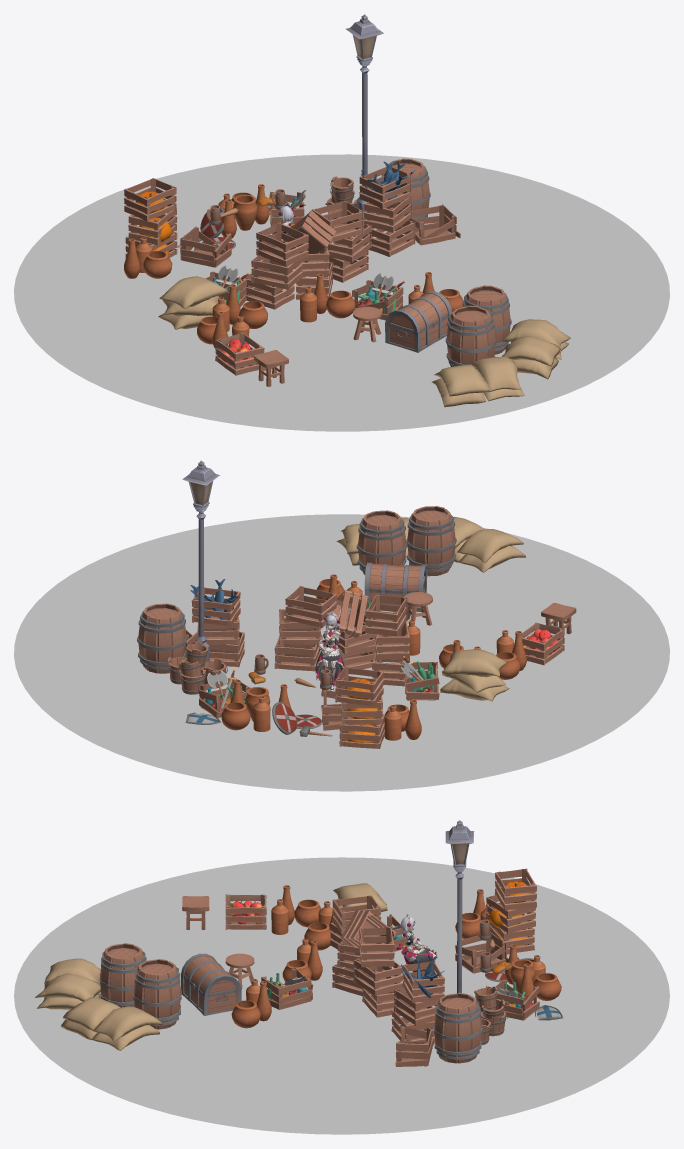
File: Env_with_Character_and_Lights.gltf
3 views of the same model, one above another, from view 1: azimuth 30°, elevation 25°; view 2: azimuth 150°, elevation 25°; view 3: azimuth 270°, elevation 25° (orthographic).
Visible parts, largest first — view 1: Floor, Bag_4__1_, Chest_1, Bag_4, Barrel__3_, Lamp_76, Case_1__11_, Case_1__2_, Barrel__2_, Case_and_food_1, Case_2__2_, Case_1__5_ (+21 smaller); view 2: Floor, Barrel__3_, Barrel__1_, Barrel__2_, Bag_4__1_, Chest_1, Lamp_76, Case_1__7_, Case_1__11_, Case_1__2_, Case_and_food_1, Bag_1__2_ (+25 smaller); view 3: Floor, Bag_4, Barrel__1_, Chest_1, Barrel__2_, Bag_4__1_, Barrel__3_, Lamp_76, Case_and_food_1, Case_1__2_, Case_1__7_, Case_1__8_ (+24 smaller).
Part boxes in pixels (x1,y1,x2,y2): Floor: (14, 154, 669, 431); Bag_4__1_: (431, 357, 524, 407); Chest_1: (385, 291, 452, 352); Bag_4: (501, 319, 570, 379); Barrel__3_: (445, 305, 496, 370); Lamp_76: (345, 14, 383, 220); Case_1__11_: (256, 222, 308, 266); Case_1__2_: (124, 178, 176, 221); Barrel__2_: (462, 285, 511, 354); Case_and_food_1: (215, 332, 264, 375); Case_2__2_: (408, 204, 460, 245); Case_1__5_: (359, 166, 412, 209); Floor: (14, 514, 669, 791); Barrel__3_: (406, 506, 456, 576); Barrel__1_: (137, 603, 187, 673); Barrel__2_: (356, 510, 407, 574); Bag_4__1_: (453, 516, 525, 572); Chest_1: (364, 562, 427, 611); Lamp_76: (182, 460, 220, 661); Case_1__7_: (285, 586, 337, 628); Case_1__11_: (365, 595, 407, 636); Case_1__2_: (335, 666, 383, 706); Case_and_food_1: (521, 622, 564, 665); Bag_1__2_: (443, 649, 507, 677); Floor: (14, 857, 669, 1134); Bag_4: (61, 997, 162, 1050); Barrel__1_: (434, 992, 482, 1063); Chest_1: (181, 953, 241, 1015); Barrel__2_: (133, 959, 181, 1029); Bag_4__1_: (35, 958, 100, 1009); Barrel__3_: (99, 943, 146, 1007); Lamp_76: (445, 820, 474, 993); Case_and_food_1: (225, 894, 266, 929); Case_1__2_: (494, 868, 536, 910); Case_1__7_: (358, 927, 394, 967); Case_1__8_: (353, 958, 402, 995).
Size of what is drawn, in the model's own units: 12.82 by 4.73 by 12.82.
